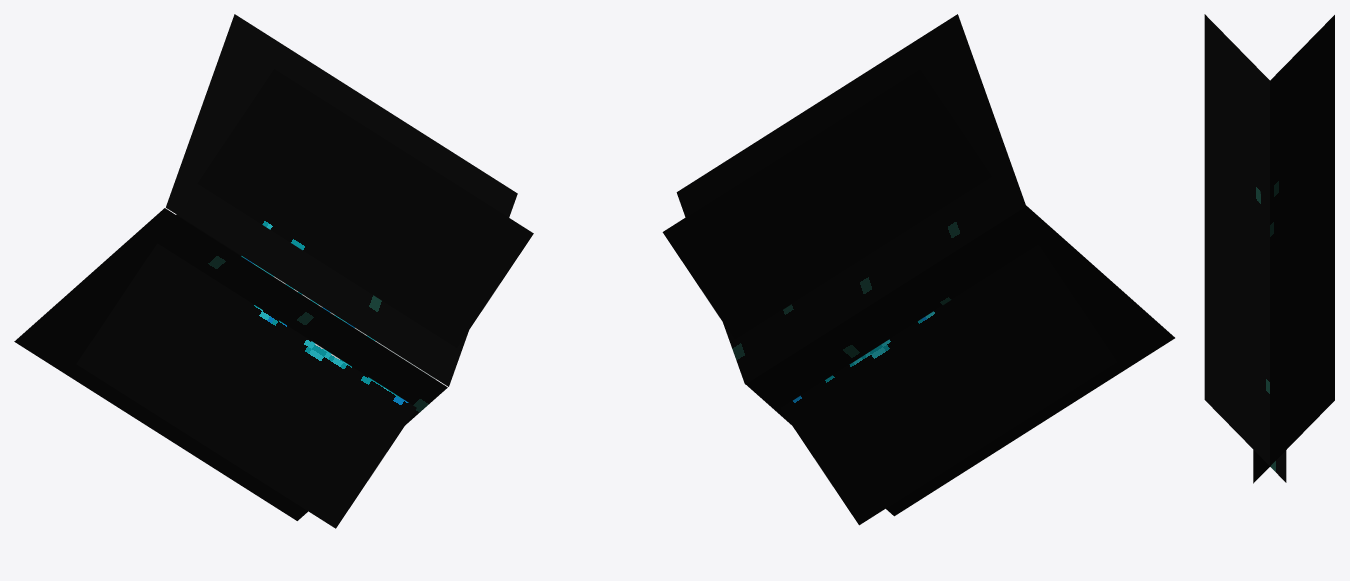
The model's file is excalibur.gltf.
3 renders of one model, left to right at view 1: azimuth 30°, elevation 25°; view 2: azimuth 150°, elevation 25°; view 3: azimuth 270°, elevation 25°, orthographic.
Visible parts, largest first — view 1: cube, partic (×2); view 2: cube, partic (×2); view 3: partic (×2).
Boxes of the visible parts, bbox=[...] form: cube: bbox=[76, 69, 533, 528]; partic (×2): bbox=[14, 14, 517, 520]; cube: bbox=[662, 69, 1116, 525]; partic (×2): bbox=[676, 14, 1174, 516]; partic (×2): bbox=[1204, 14, 1334, 483].
Size of the model in its own units: 1.02 by 1.02 by 0.2319.
Materials: 2 (2 with a texture image).
